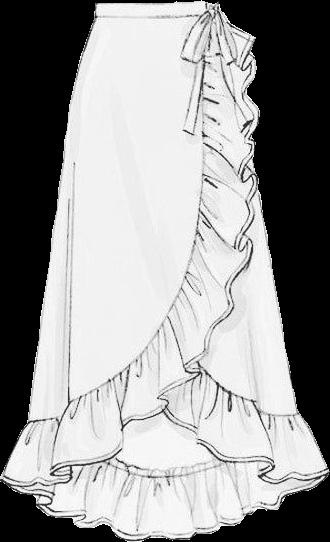Hemline: (0, 34, 262, 486), (159, 412, 328, 484)
Waistline: (22, 6, 209, 421), (93, 7, 211, 21), (93, 0, 207, 6)
